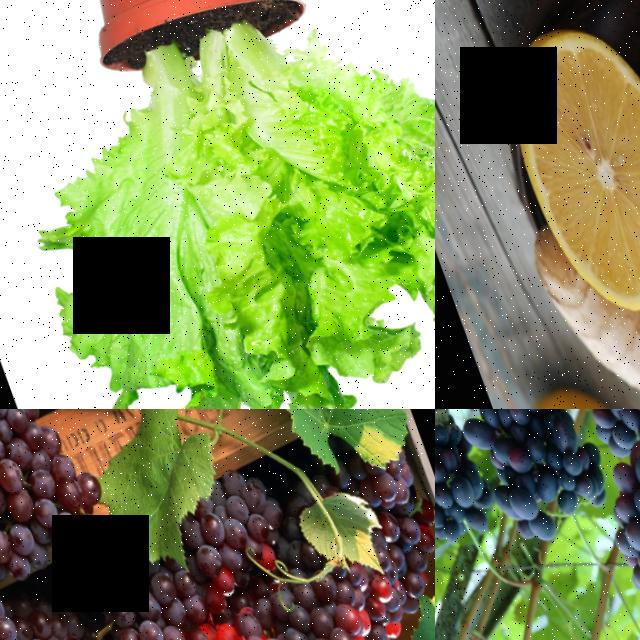grapes: (435, 409, 617, 555), (88, 551, 282, 640), (0, 409, 106, 564), (174, 463, 298, 590), (580, 418, 640, 640), (221, 563, 374, 640)
lemon: (484, 10, 640, 281), (495, 365, 640, 409)
lettuce: (0, 0, 435, 409)
